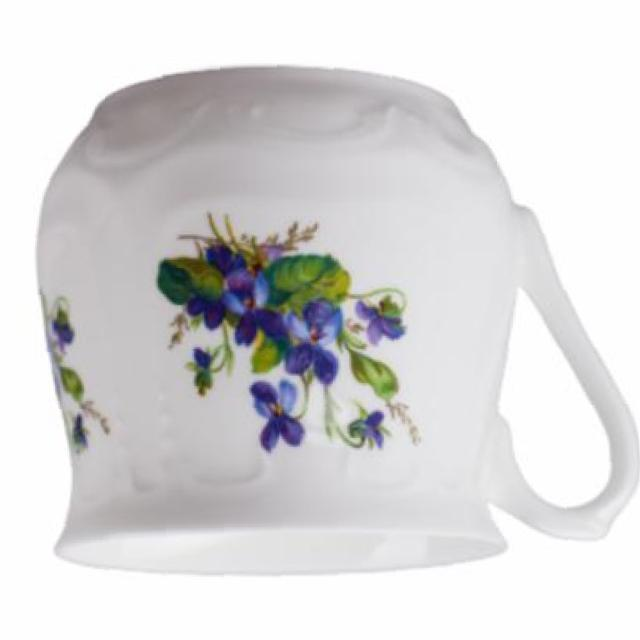cup: (29, 56, 640, 586)
